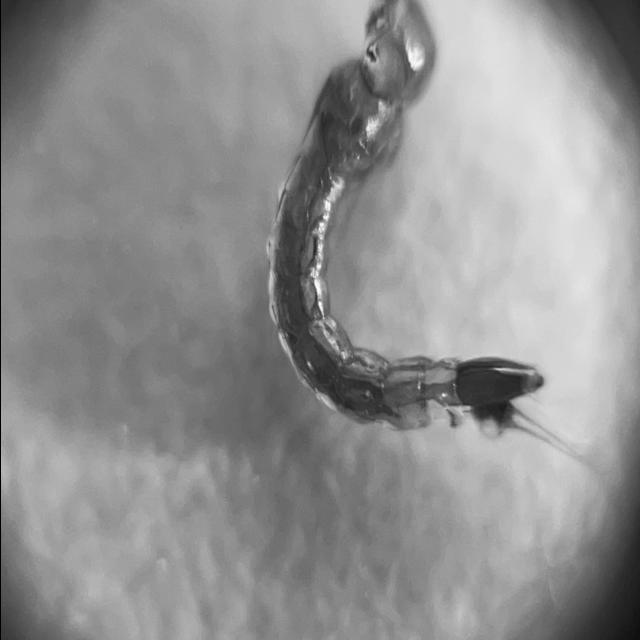larvas: (268, 0, 543, 431)
